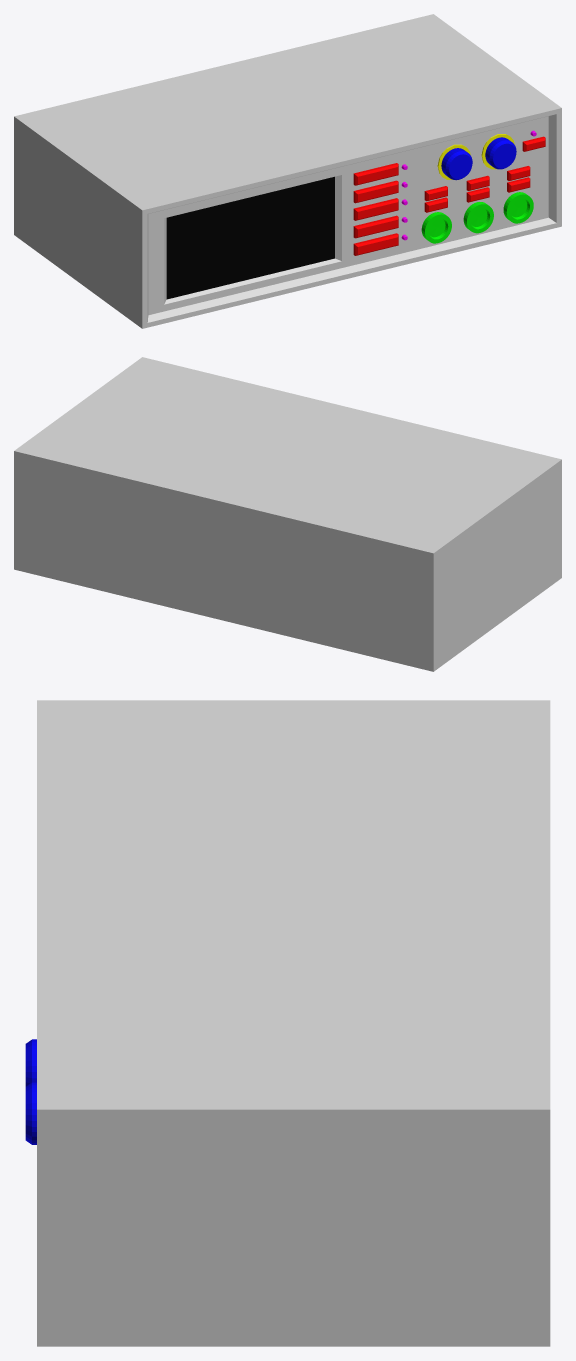
The model's file is Osciloscopio.fbx.
The picture shows the model from 3 angles, top to bottom: view 1: azimuth 30°, elevation 25°; view 2: azimuth 150°, elevation 25°; view 3: azimuth 270°, elevation 25°; orthographic projection. The views are drawn at different scales.
Parts seen in each view (by area): view 1: Osciloscopio, Botones, Conectores, Perillas, Sujetadores; view 2: Osciloscopio; view 3: Osciloscopio, Perillas.
Boxes of the visible parts, x1,y1,x2,y2 form: Osciloscopio: (14,14,561,328); Botones: (353,136,545,255); Conectores: (421,192,533,243); Perillas: (441,137,516,180); Sujetadores: (437,134,514,179); Osciloscopio: (14,357,561,671); Osciloscopio: (37,700,550,1346); Perillas: (25,1039,36,1144).
Size of the model in its own units: 38.23 by 10.32 by 20.71.
